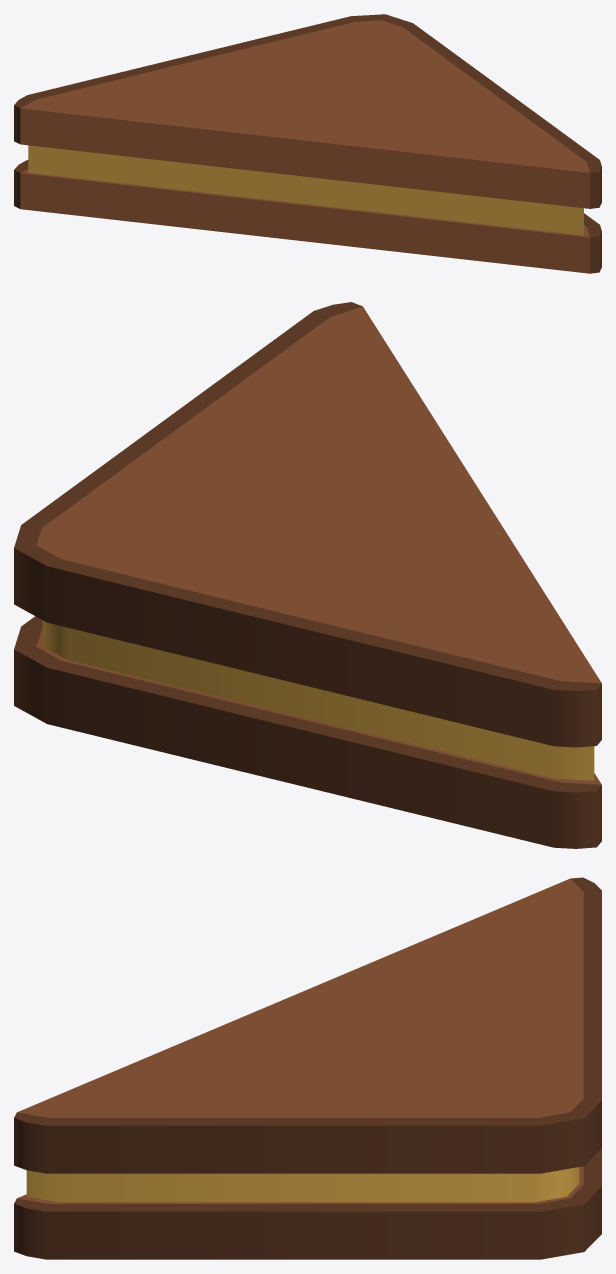
The model's file is GrilledCheese_01_Triangle.fbx.
The picture shows the model from 3 angles, top to bottom: view 1: azimuth 30°, elevation 25°; view 2: azimuth 150°, elevation 25°; view 3: azimuth 270°, elevation 25°; orthographic projection. The views are drawn at different scales.
Visible parts, largest first — view 1: GrilledCheese_01_Triangle; view 2: GrilledCheese_01_Triangle; view 3: GrilledCheese_01_Triangle.
Boxes of the visible parts, left/top/right/bottom form: GrilledCheese_01_Triangle: left=14, top=14, right=601, bottom=273; GrilledCheese_01_Triangle: left=14, top=302, right=601, bottom=848; GrilledCheese_01_Triangle: left=14, top=877, right=601, bottom=1259.
Size of the model in its own units: 0.1304 by 0.0328 by 0.1305.
